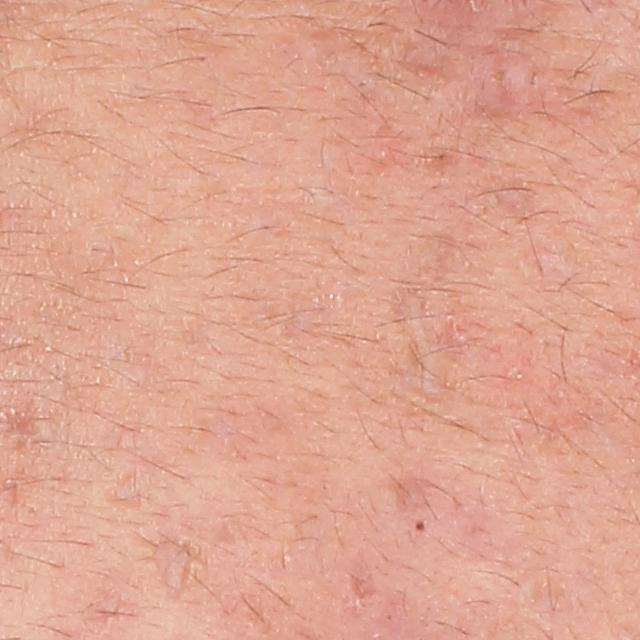atrophic_scar: (384, 226, 460, 408), (348, 570, 384, 603)
comedo: (402, 513, 434, 537), (373, 146, 394, 168)
